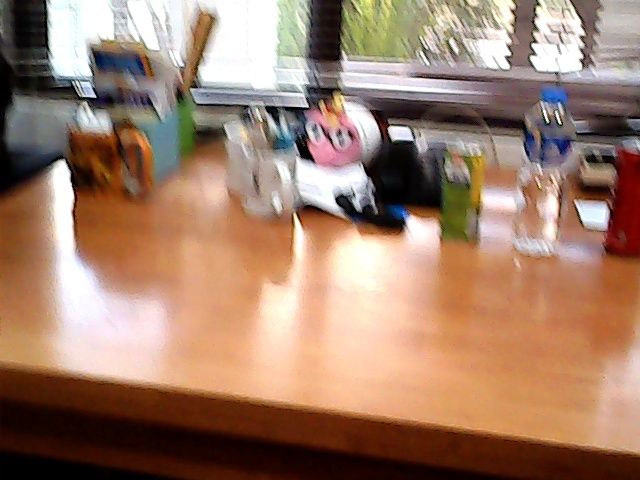Cola: (597, 124, 640, 272)
Pine Juice: (431, 132, 492, 251)
Summit Water: (512, 82, 579, 267)
